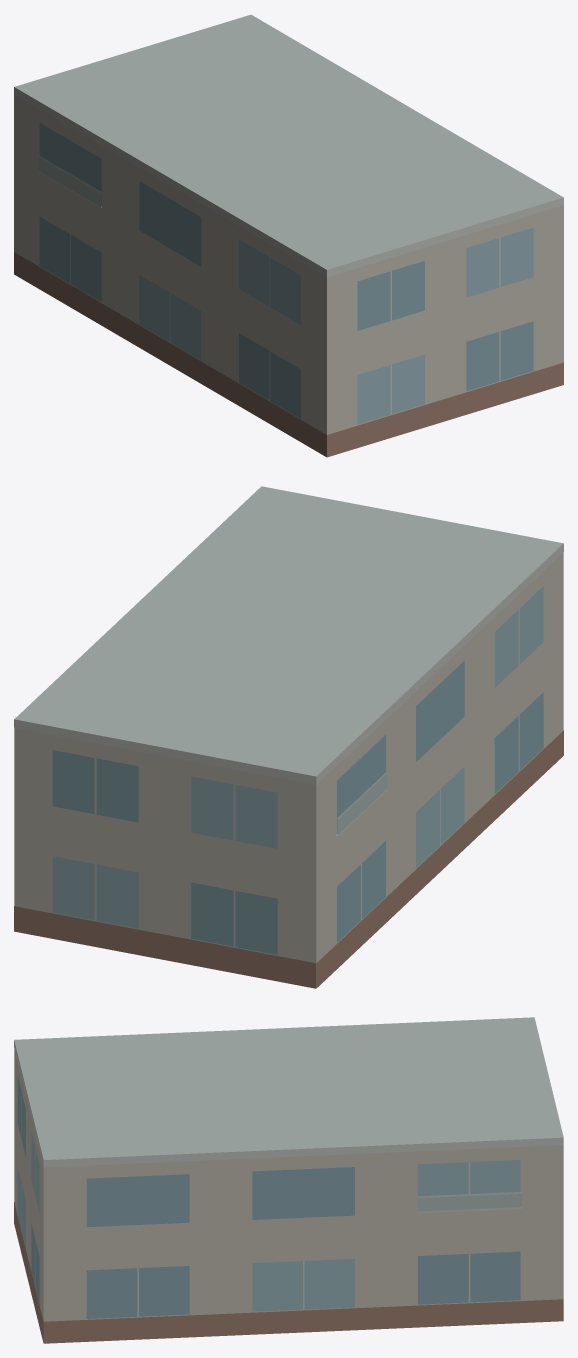
Rendered from survey-upis-32628897.glb.
3 views of the same model, one above another, from view 1: azimuth 30°, elevation 25°; view 2: azimuth 150°, elevation 25°; view 3: azimuth 270°, elevation 25° (orthographic). The views are drawn at different scales.
Parts seen in each view (by area): view 1: survey-upis-32628897.tmp; view 2: survey-upis-32628897.tmp; view 3: survey-upis-32628897.tmp.
Part boxes in pixels (x1,y1,x2,y2): survey-upis-32628897.tmp: (14,14,563,457); survey-upis-32628897.tmp: (14,486,563,988); survey-upis-32628897.tmp: (14,1017,563,1343).
Bounding box in the file's own units: 10.19 × 6.1 × 16.57.
